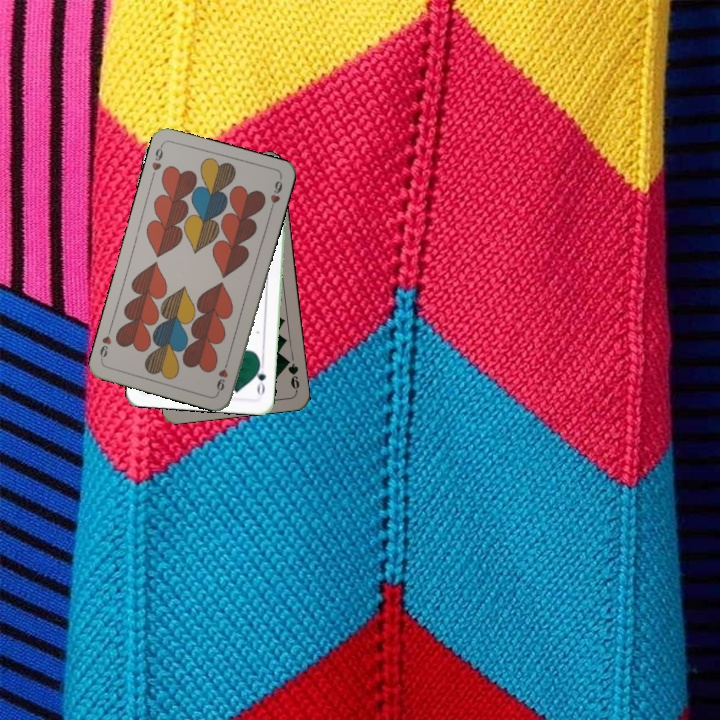G9: (281, 354, 302, 394)
GO: (251, 358, 269, 399)
H9: (147, 141, 166, 181), (212, 356, 231, 395)
